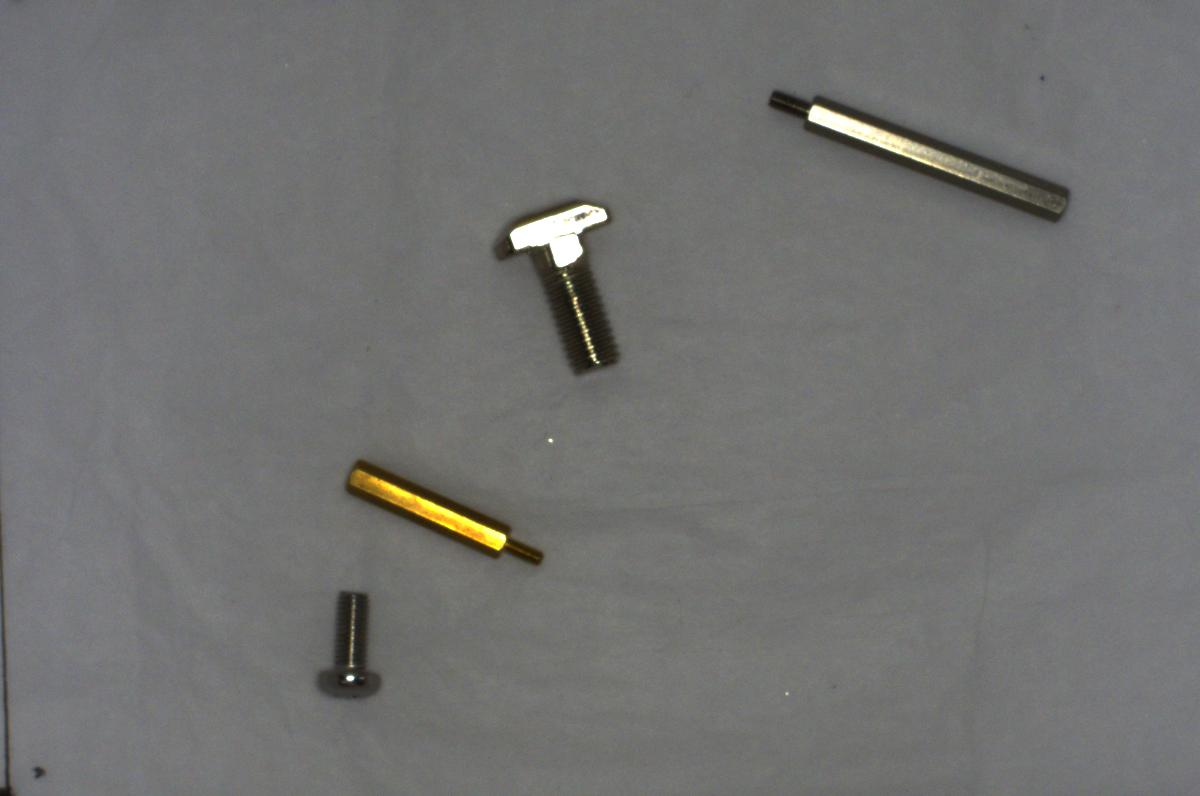Hexagon pillar: (333, 452, 550, 569)
Hexagonal steel column: (757, 86, 1074, 223)
Round head screw: (315, 580, 385, 702)
T-shaped screw: (486, 187, 633, 383)
